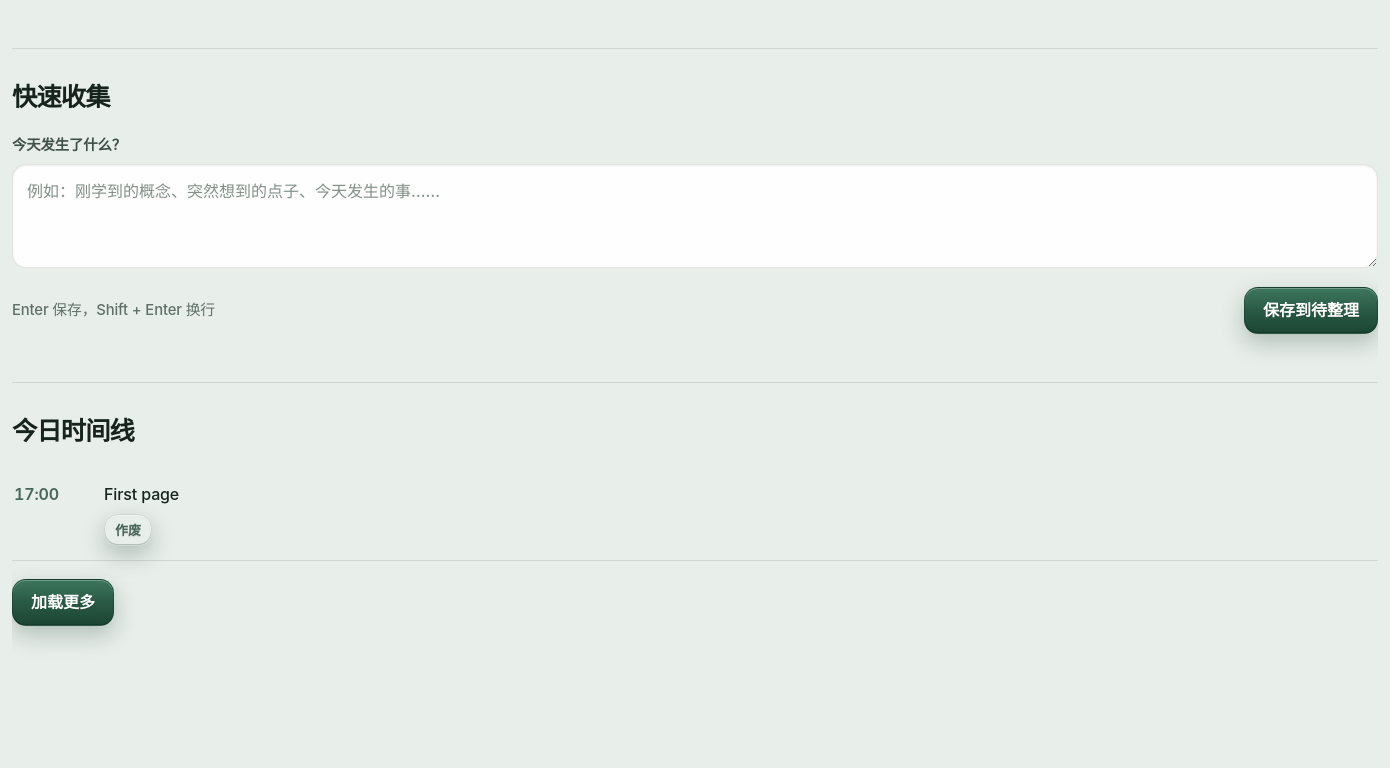
TodayCapture › loads the next page with the original snapshot
Click the button "加载更多": (63,603) [12, 579, 114, 626]
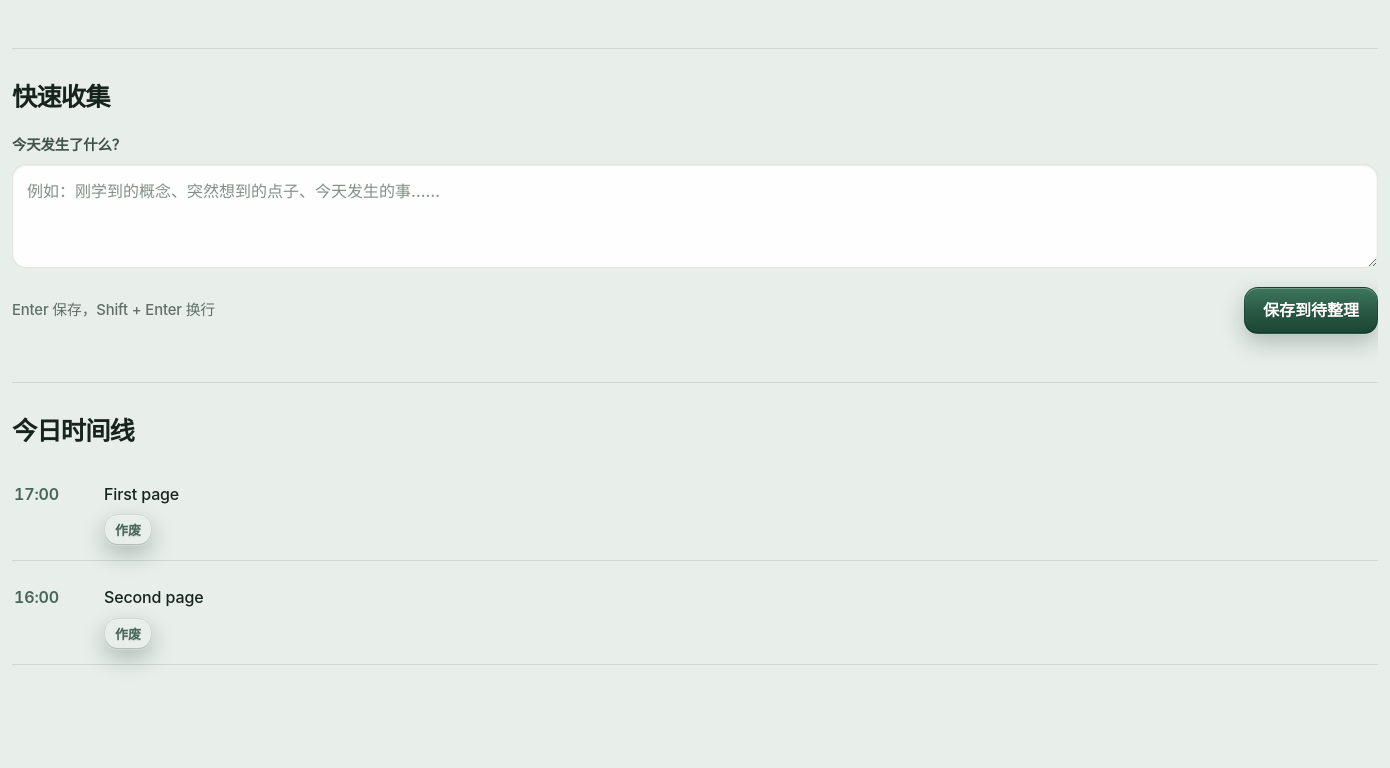
Expected: the text "Second page" is shown, [104, 587, 204, 607]
